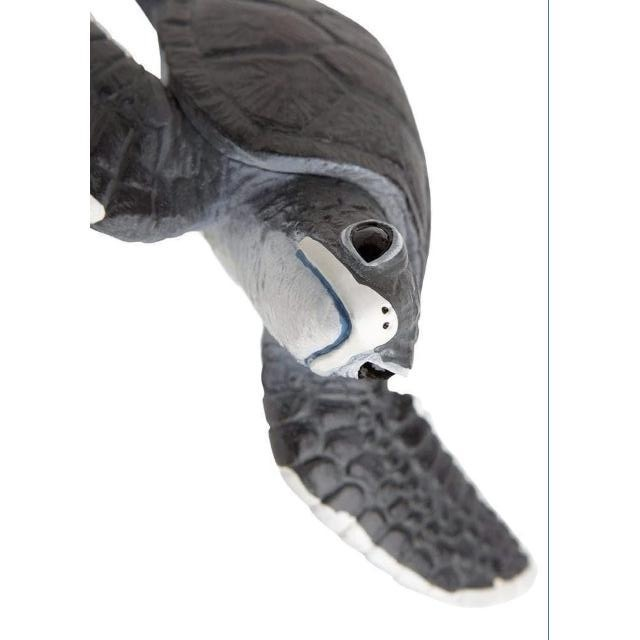turtle: (92, 2, 537, 610)
